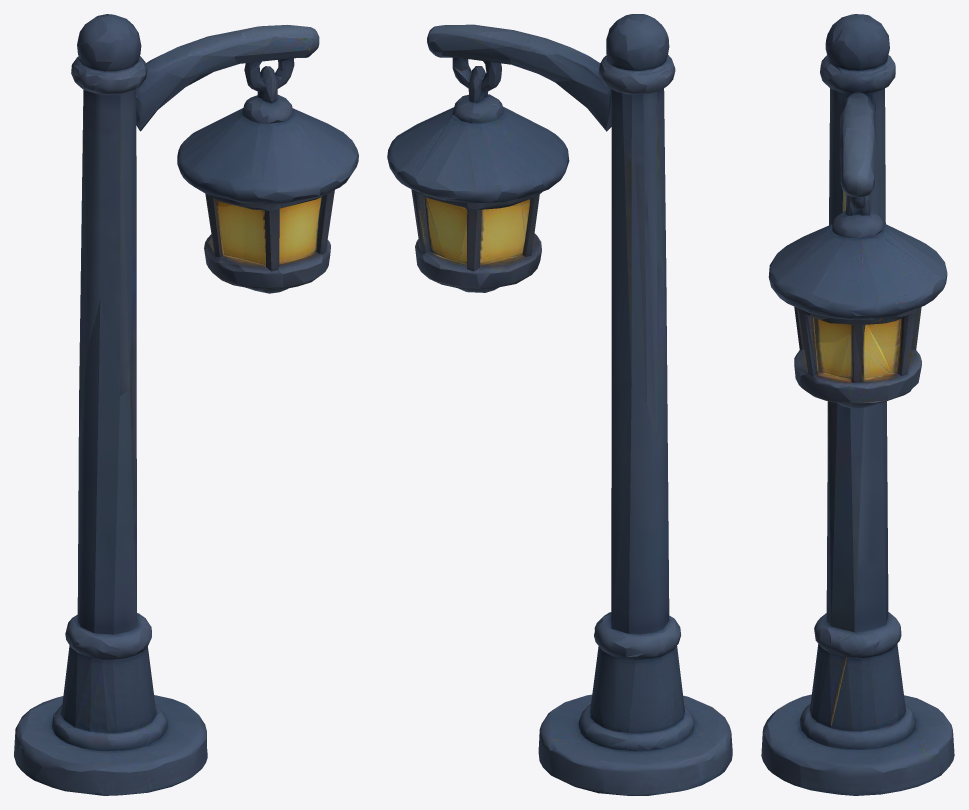
File: skate-lygte.glb
The picture shows the model from 3 angles, left to right: view 1: azimuth 30°, elevation 25°; view 2: azimuth 150°, elevation 25°; view 3: azimuth 270°, elevation 25°; orthographic projection.
Bounding box in the file's own units: 0.8648 × 1.9 × 0.4513.
1 material, 1 textured.
